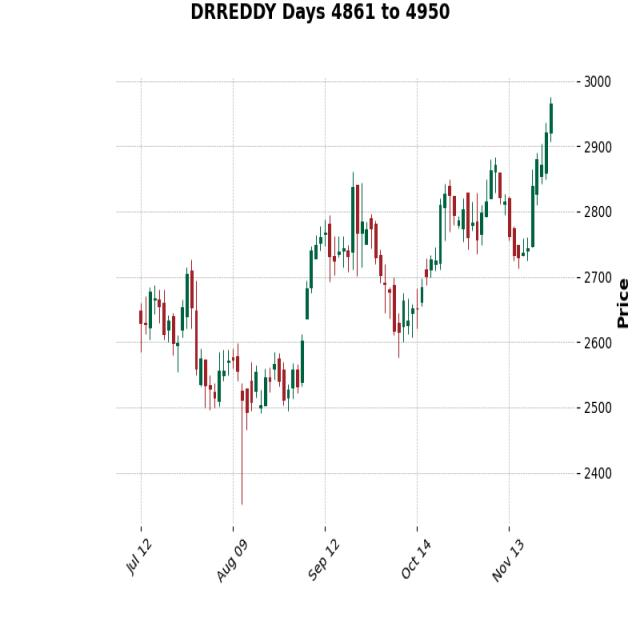Ascending Triangle: (344, 170, 507, 347)
